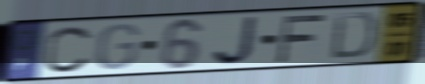6: (158, 17, 205, 72)
C: (42, 24, 95, 75)
D: (328, 11, 379, 61)
F: (274, 12, 329, 65)
G: (93, 22, 142, 72)
J: (210, 15, 262, 67)
